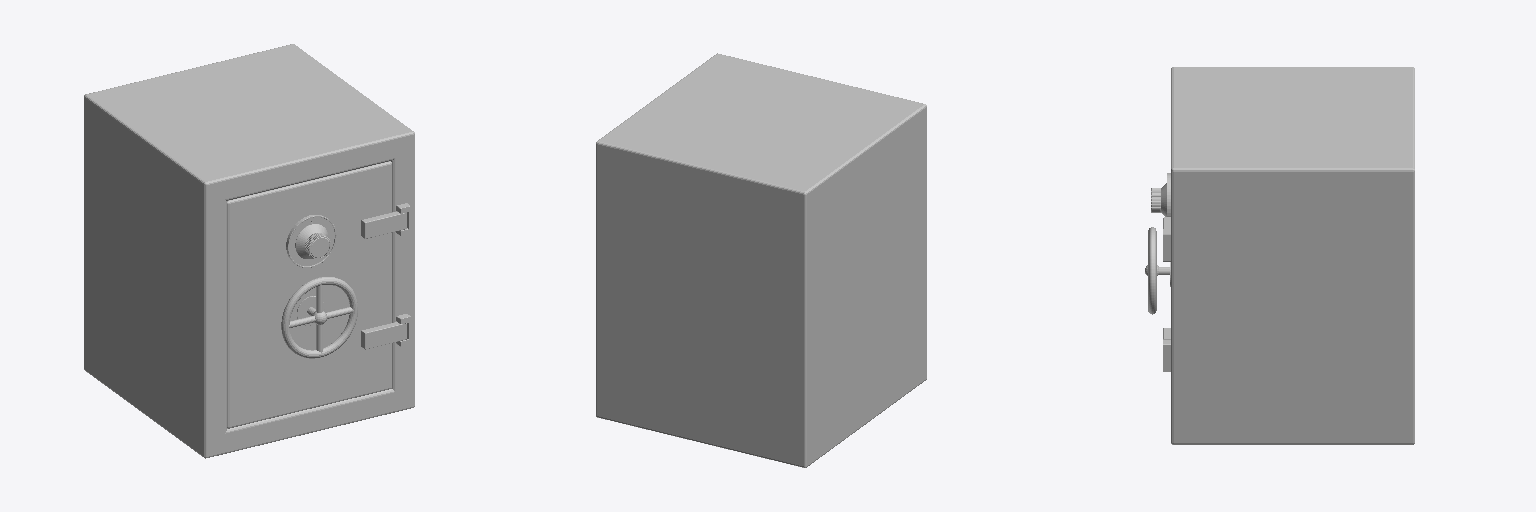
The model's file is safebox.obj.
The picture shows the model from 3 angles: view 1: azimuth 30°, elevation 25°; view 2: azimuth 150°, elevation 25°; view 3: azimuth 270°, elevation 25°; orthographic projection.
Parts seen in each view (by area): view 1: safebox, Bank-Safe Bank-Safe-Door, Bank-Safe Bank-Safe-Door Hand, Bank-Safe Bank-Safe-Door Arms, Bank-Safe Bank-Safe-Door Lock, Bank-Safe Bank-Safe-Door Lock Knob, Bank-Safe Bank-Safe-Main Bank-Safe-Jt; view 2: safebox; view 3: safebox, Bank-Safe Bank-Safe-Door Hand, Bank-Safe Bank-Safe-Main Bank-Safe-Jt.
Part boxes in pixels (bbox=[...]): safebox: bbox=[84, 44, 414, 458]; Bank-Safe Bank-Safe-Door: bbox=[227, 161, 391, 428]; Bank-Safe Bank-Safe-Door Hand: bbox=[281, 277, 357, 358]; Bank-Safe Bank-Safe-Door Arms: bbox=[361, 211, 406, 349]; Bank-Safe Bank-Safe-Door Lock: bbox=[286, 215, 336, 267]; Bank-Safe Bank-Safe-Door Lock Knob: bbox=[295, 221, 330, 258]; Bank-Safe Bank-Safe-Main Bank-Safe-Jt: bbox=[396, 203, 410, 346]; safebox: bbox=[596, 53, 926, 467]; safebox: bbox=[1171, 67, 1414, 444]; Bank-Safe Bank-Safe-Door Hand: bbox=[1145, 227, 1170, 314]; Bank-Safe Bank-Safe-Main Bank-Safe-Jt: bbox=[1163, 229, 1170, 371].
Bounding box in the file's own units: 120 × 150 × 133.